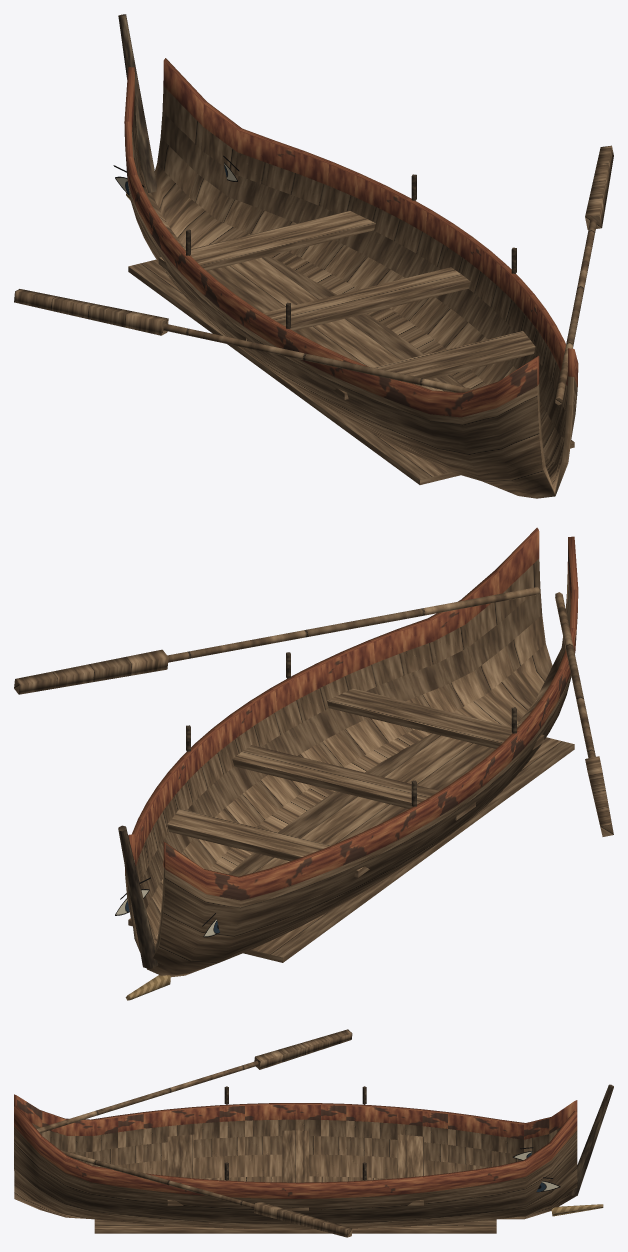
The model's file is barca_a_remi.gltf.
The picture shows the model from 3 angles, top to bottom: view 1: azimuth 30°, elevation 25°; view 2: azimuth 150°, elevation 25°; view 3: azimuth 270°, elevation 25°; orthographic projection. The views are drawn at different scales.
Visible parts, largest first — view 1: barca_a_remi; view 2: barca_a_remi; view 3: barca_a_remi.
Boxes of the visible parts, box(x1,y1,x2,y2) form: barca_a_remi: box(14, 14, 613, 498); barca_a_remi: box(14, 527, 613, 1000); barca_a_remi: box(14, 1029, 613, 1237).
Bounding box in the file's own units: 4.66 × 1.44 × 5.85.
Materials: 5 (5 with a texture image).
